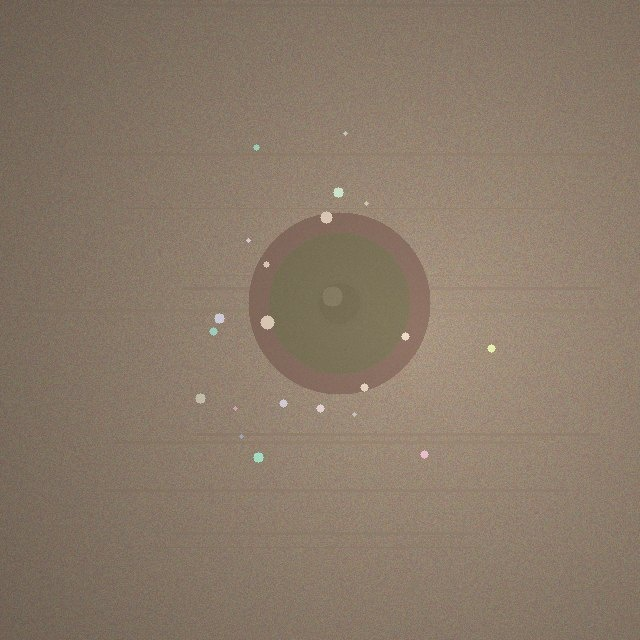overburn: (248, 212, 430, 394)
